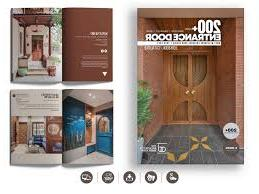chair: (52, 142, 63, 155)
door: (160, 47, 189, 123), (189, 49, 217, 126), (94, 107, 113, 158), (18, 121, 28, 144)
light: (82, 110, 93, 123), (91, 93, 99, 103), (87, 90, 92, 98)
sofa: (31, 134, 47, 152)
table: (17, 57, 28, 76), (47, 65, 57, 79), (28, 144, 40, 155)
